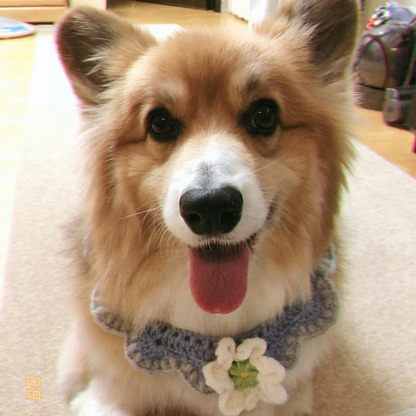Corgi: (56, 11, 358, 406)
